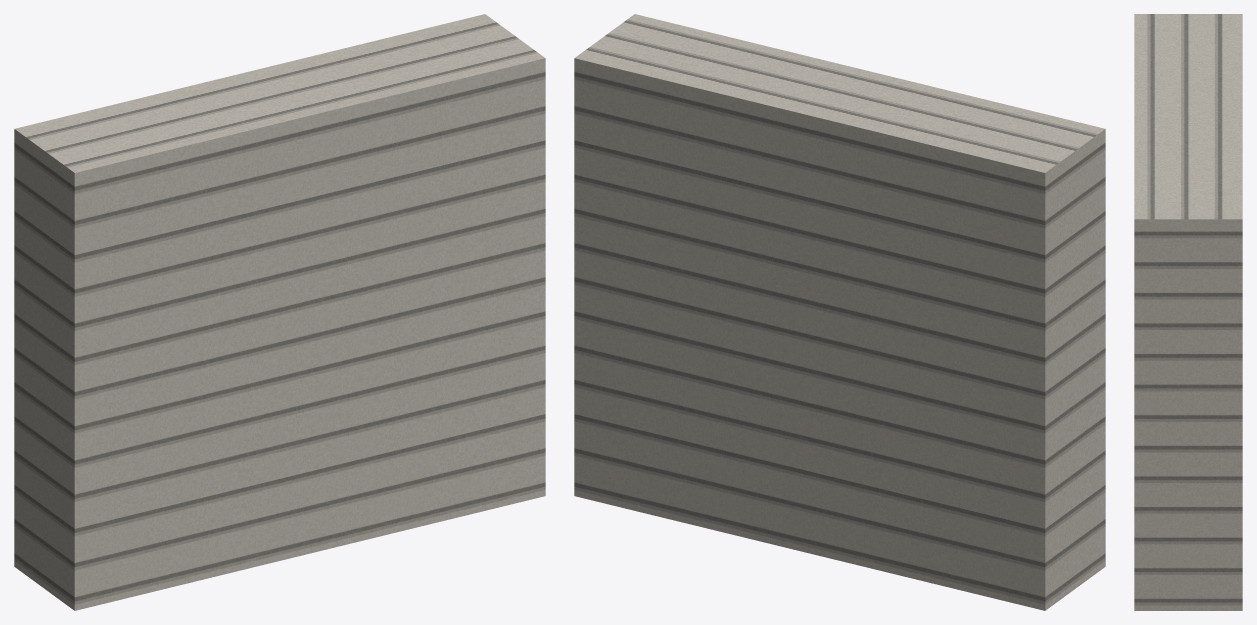
File: safe_deposit_box_wall.glb
3 views of the same model, side by side, from view 1: azimuth 30°, elevation 25°; view 2: azimuth 150°, elevation 25°; view 3: azimuth 270°, elevation 25° (orthographic). The views are drawn at different scales.
Parts seen in each view (by area): view 1: safe_deposit_box_wall-col; view 2: safe_deposit_box_wall-col; view 3: safe_deposit_box_wall-col.
Part boxes in pixels (left/top/right/bottom): safe_deposit_box_wall-col: left=14, top=14, right=545, bottom=610; safe_deposit_box_wall-col: left=574, top=14, right=1105, bottom=610; safe_deposit_box_wall-col: left=1134, top=14, right=1242, bottom=610.
Size of the model in its own units: 1.8 by 1.6 by 0.4.
1 material, 1 textured.
